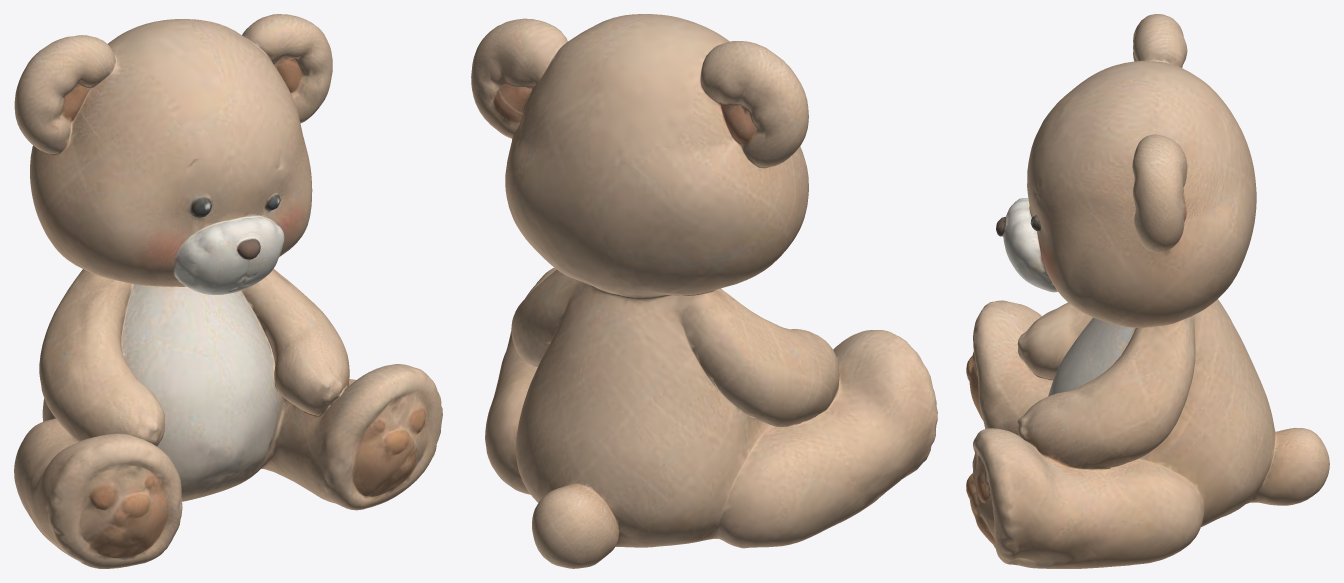
The picture shows the model from 3 angles, left to right: view 1: azimuth 30°, elevation 25°; view 2: azimuth 150°, elevation 25°; view 3: azimuth 270°, elevation 25°; orthographic projection. The views are drawn at different scales.
Size of the model in its own units: 1.65 by 1.9 by 1.41.
Materials: 1 (1 with a texture image).
